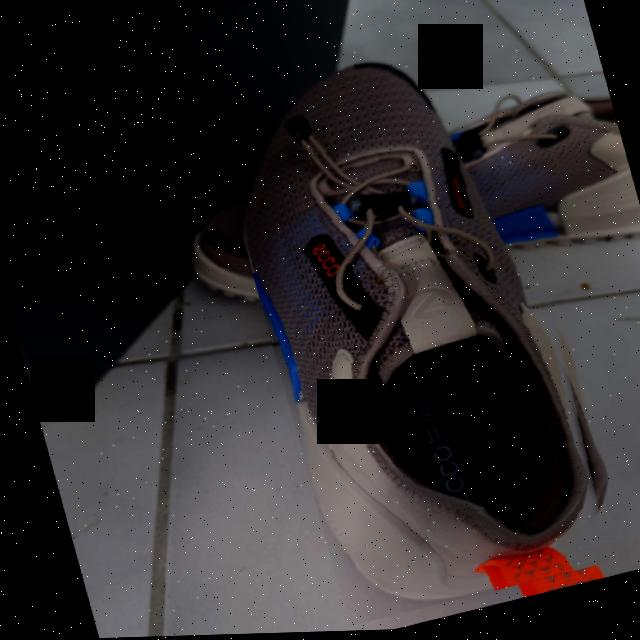shoe: (201, 30, 630, 631)
